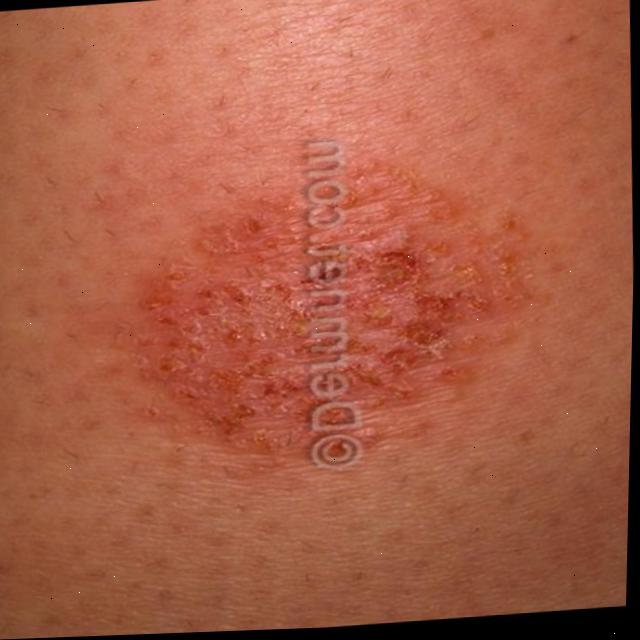Eczema: (193, 168, 482, 452)
